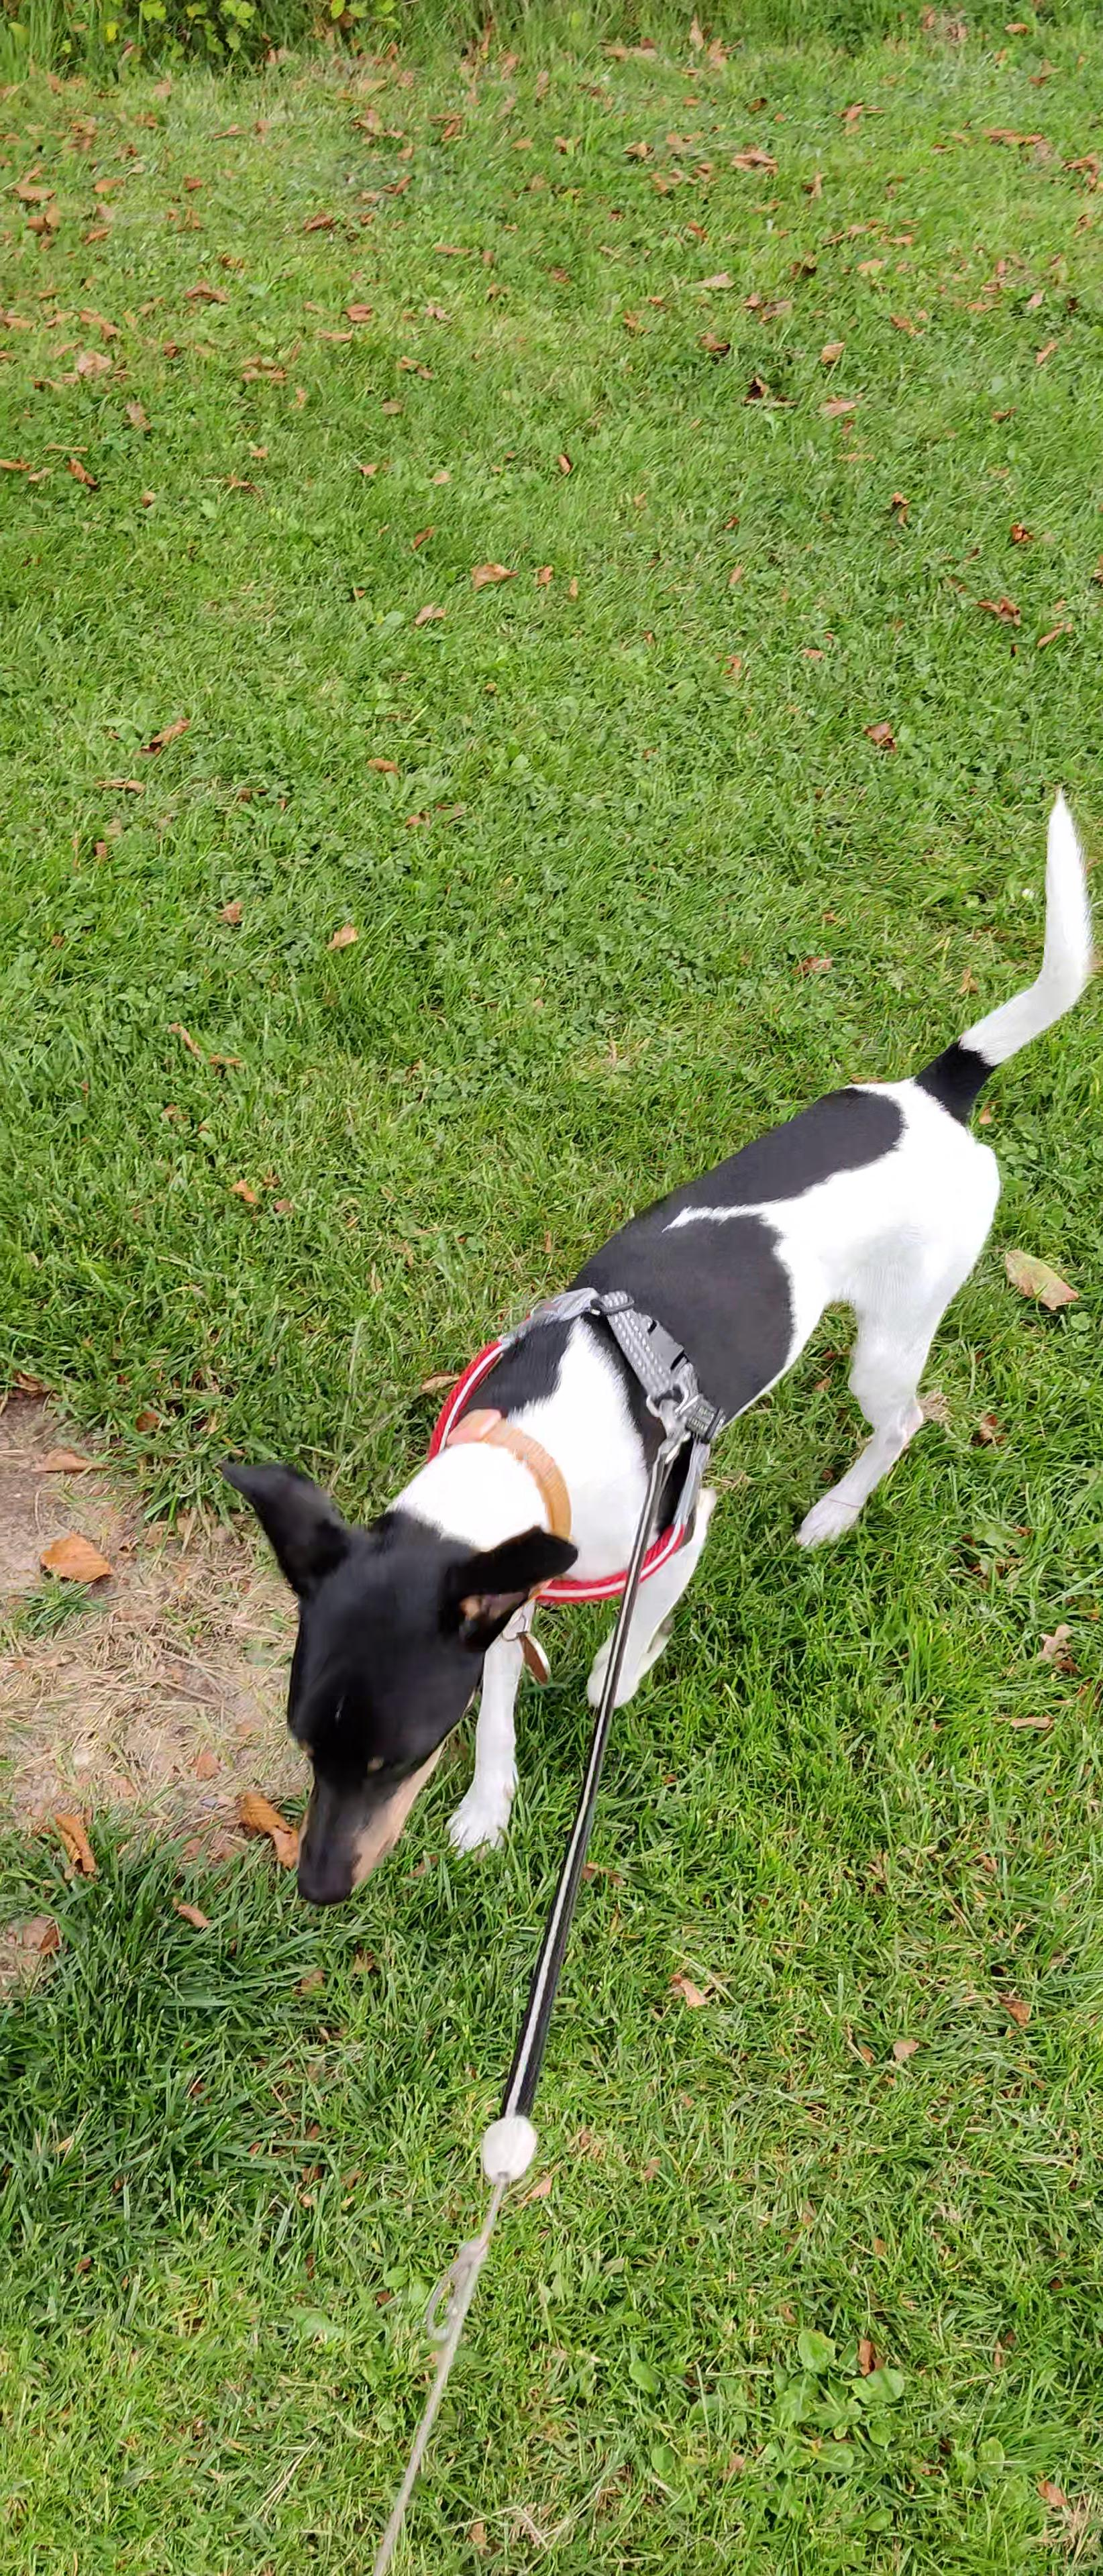Dog: (204, 779, 1098, 1934)
